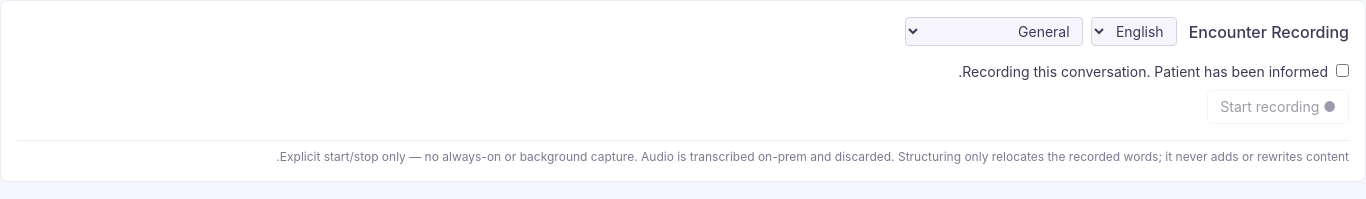
it: AmbientPanel › consent checkbox enables the start button
Click the checkbox with test id "consent-checkbox" at [1342, 70], box 1336,64 -> 1349,77
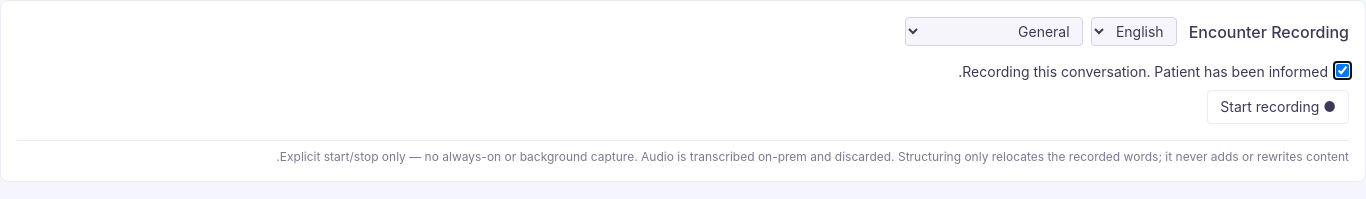
Expected: the button with test id "start-recording-btn" is enabled, 1207,90 -> 1349,124
